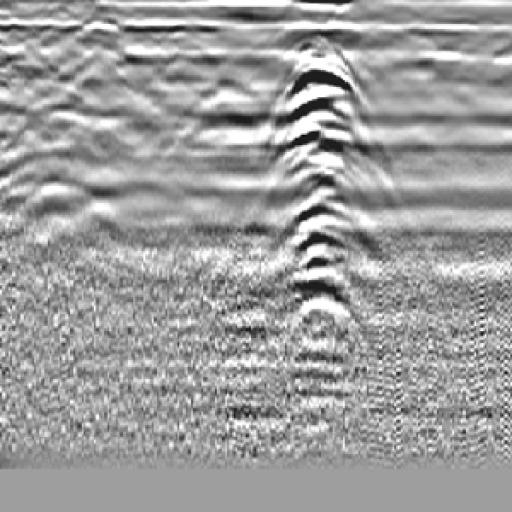metalic: (273, 27, 367, 377)
nonmetalic: (154, 66, 287, 181)
